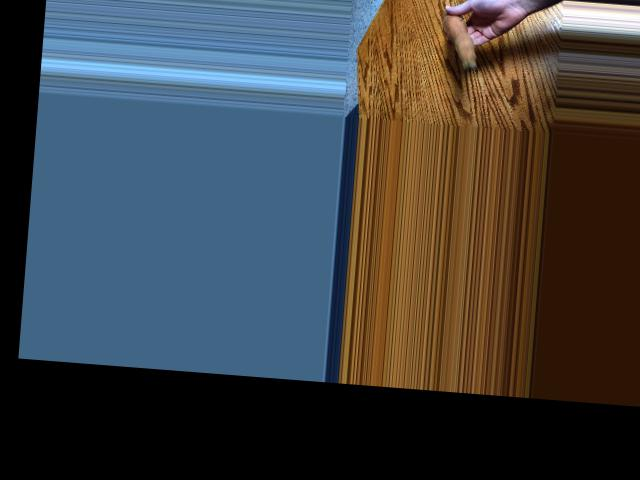sweet_potato: (439, 7, 484, 70)
